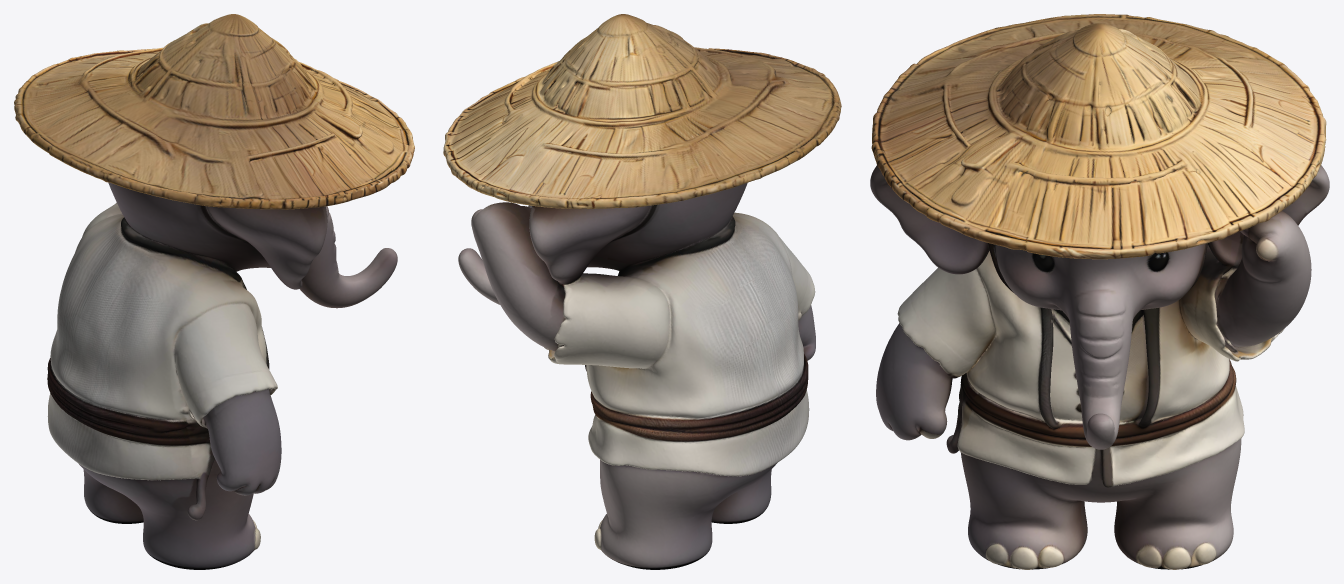
Rendered from role-2.glb.
3 renders of one model, left to right at view 1: azimuth 30°, elevation 25°; view 2: azimuth 150°, elevation 25°; view 3: azimuth 270°, elevation 25°, orthographic. The views are drawn at different scales.
Visible parts, largest first — view 1: tripo_node_7e96bf47-c6a6-4495-8350-1913248ab2fe; view 2: tripo_node_7e96bf47-c6a6-4495-8350-1913248ab2fe; view 3: tripo_node_7e96bf47-c6a6-4495-8350-1913248ab2fe.
Part boxes in pixels (<box>): tripo_node_7e96bf47-c6a6-4495-8350-1913248ab2fe: <box>14,14,414,569</box>; tripo_node_7e96bf47-c6a6-4495-8350-1913248ab2fe: <box>443,14,841,569</box>; tripo_node_7e96bf47-c6a6-4495-8350-1913248ab2fe: <box>870,14,1329,569</box>.
Size of the model in its own units: 0.7436 by 1 by 0.7479.
Materials: 1 (1 with a texture image).
